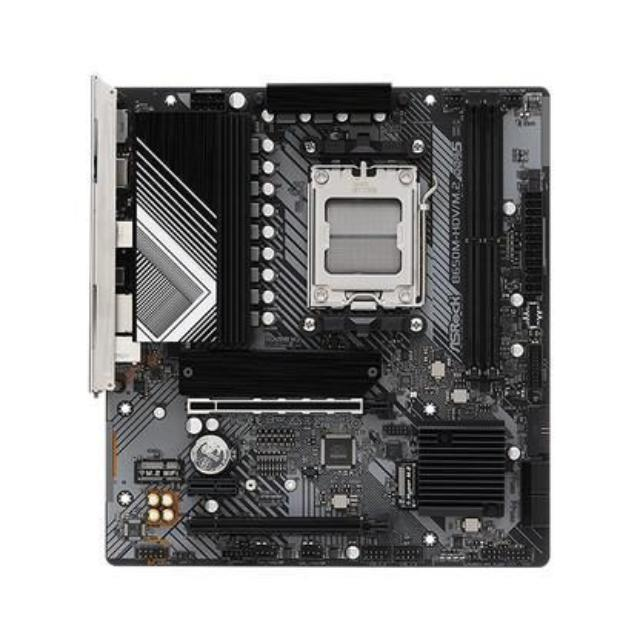Mainboard: (72, 64, 564, 582)
